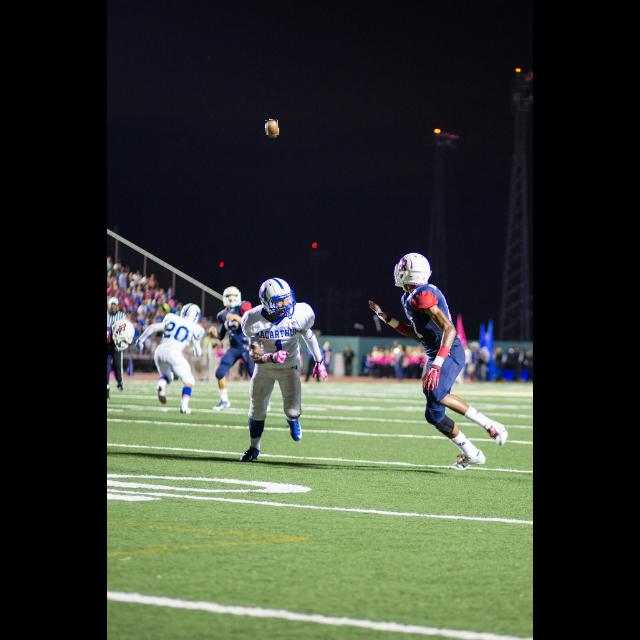Football: (266, 120, 278, 136)
